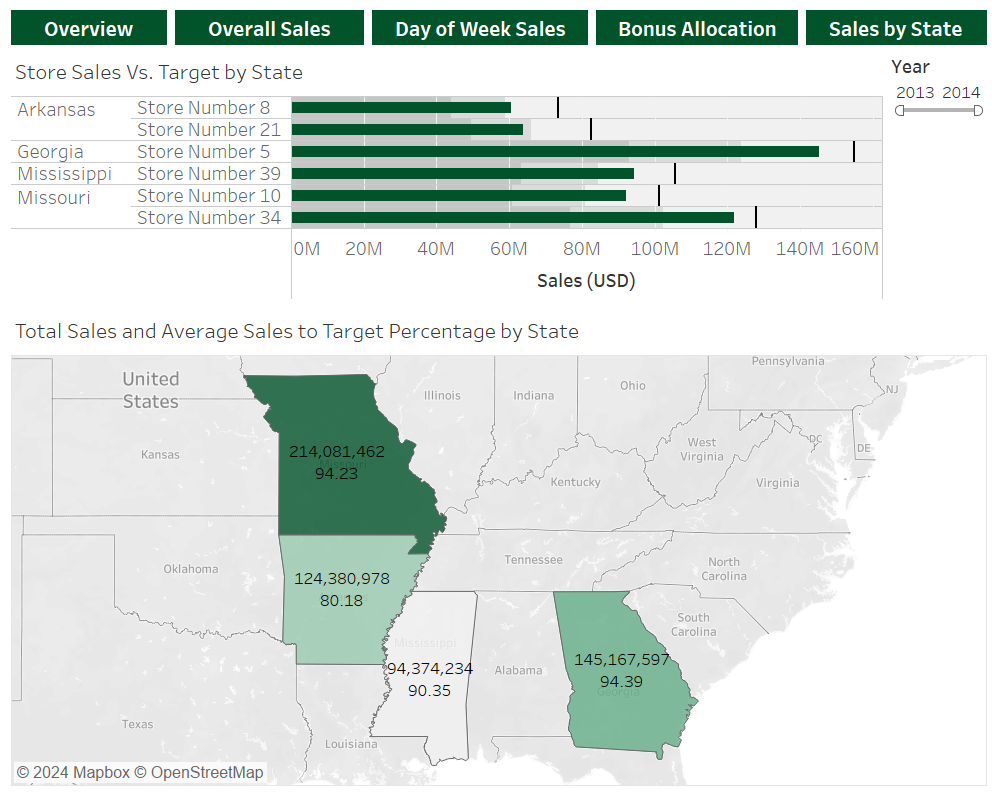

The page's visual inventory and layout, read from the dashboard file:
{"tool":"tableau","page":{"name":"Sales by State","canvas":[1000,800],"ordinal":4},"visuals":[{"type":"dashboard-object","box":[8,8,164,43]},{"type":"dashboard-object","box":[172,8,197,43]},{"type":"dashboard-object","box":[369,8,224,43]},{"type":"dashboard-object","box":[593,8,210,43]},{"type":"dashboard-object","box":[803,8,189,43]},{"type":"worksheet","title":"Sheet 8","mark":"Automatic","rows":["STATE_PROVINCE","STORENAME"],"cols":["TOTALSALEAMOUNT"],"box":[8,51,880,259]},{"type":"filter","title":"Sheet 8","param":"[federated.1ld0mg40jkbz5j1c2tbfz1tygjmd].[none:YEAR:qk]","box":[888,51,104,77]},{"type":"worksheet","title":"Sheet 7","mark":"Automatic","box":[8,310,984,482]}]}

Visuals, with their boxes in screenshot pixels (x1, y1, x2, y2), scaled from the page's 1000x800 canvas onto the 992x798 screenshot:
dashboard-object: 8, 8, 171, 51
dashboard-object: 171, 8, 366, 51
dashboard-object: 366, 8, 588, 51
dashboard-object: 588, 8, 797, 51
dashboard-object: 797, 8, 984, 51
"Sheet 8" worksheet: 8, 51, 881, 309
"Sheet 8" filter: 881, 51, 984, 128
"Sheet 7" worksheet: 8, 309, 984, 790
